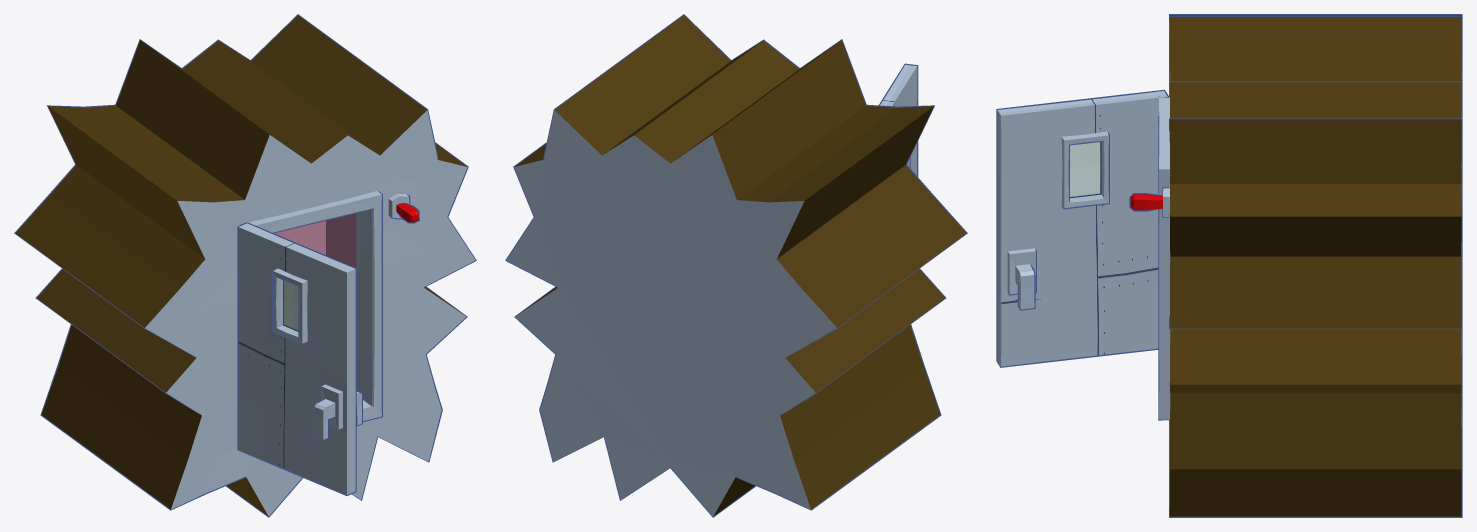
Rendered from vessel.glb.
3 renders of one model, left to right at view 1: azimuth 30°, elevation 25°; view 2: azimuth 150°, elevation 25°; view 3: azimuth 270°, elevation 25°, orthographic. The views are drawn at different scales.
Visible parts, largest first — view 1: Cube.001; view 2: Cube.001; view 3: Cube.001.
Boxes of the visible parts, <box> form: Cube.001: <box>14,14,476,517</box>; Cube.001: <box>505,14,967,517</box>; Cube.001: <box>996,14,1462,517</box>.
Size of the model in its own units: 5.9 by 6.6 by 6.35.
3 materials, 2 textured.
